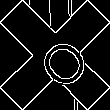O_NW: (21, 22, 89, 88)
